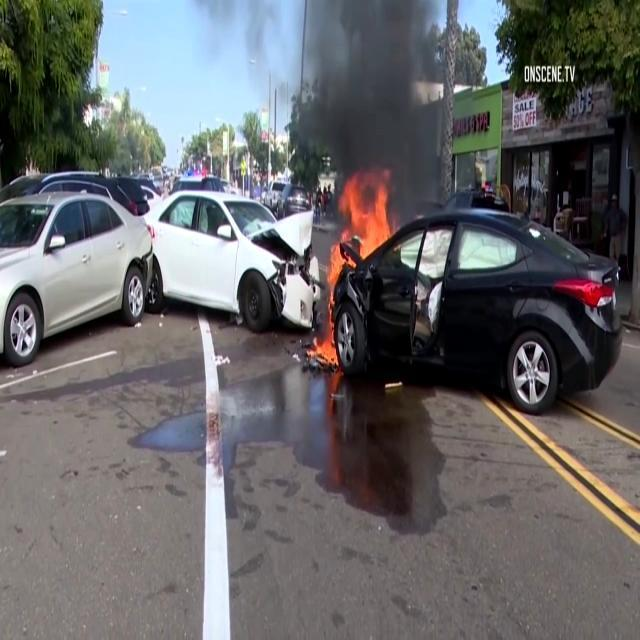Fire: (336, 174, 399, 260), (317, 242, 344, 364)
Smoke: (275, 2, 462, 216)
